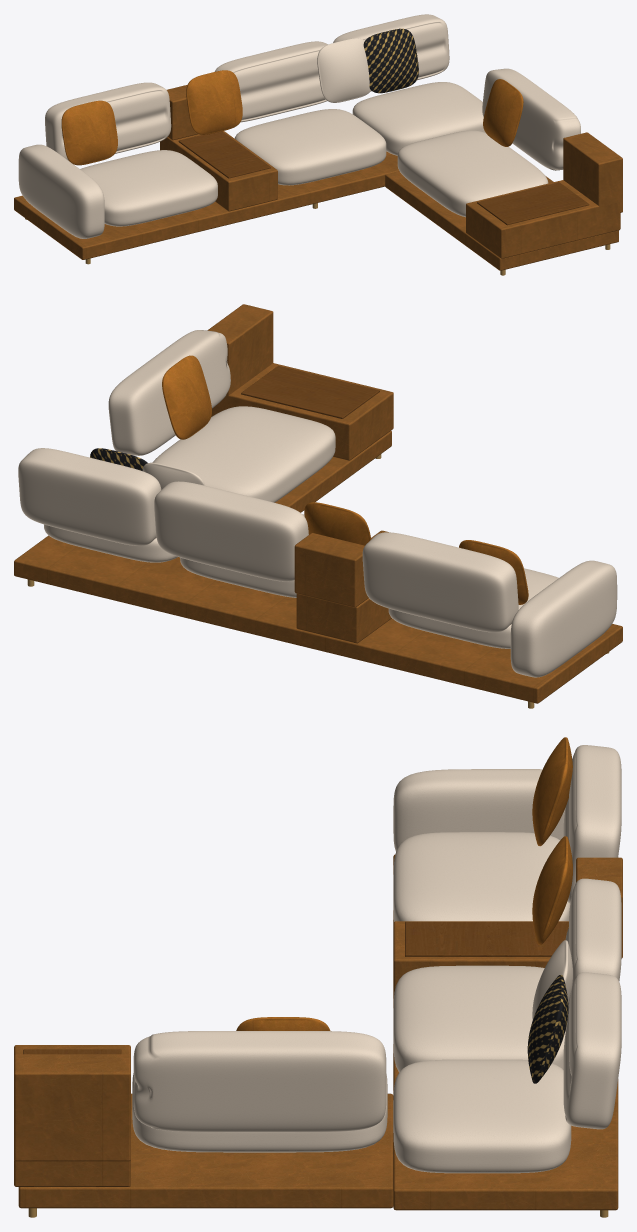
File: lorenzo-l-shape-sofa.glb
3 views of the same model, one above another, from view 1: azimuth 30°, elevation 25°; view 2: azimuth 150°, elevation 25°; view 3: azimuth 270°, elevation 25° (orthographic). The views are drawn at different scales.
Parts seen in each view (by area): view 1: base_back, seatR, seat2, seat0, seat3, backc2, armL, consoleR, backc0, backR, base_ret, consbackR (+10 smaller); view 2: base_back, backc0, seatR, backc2, backc3, armL, backR, consoleR, consback1, trayR, consbackR, console1 (+9 smaller); view 3: backR, seat3, base_ret, seat2, seat0, consbackR, base_back, armL, backc3, backc0, seatR, tray1 (+9 smaller).
Part boxes in pixels (box(x1,y1,x2,y2)): base_back: box(14, 151, 399, 259); seatR: box(397, 130, 548, 217); seat2: box(234, 109, 386, 185); seat0: box(80, 150, 217, 226); seat3: box(352, 82, 485, 155); backc2: box(214, 41, 327, 122); armL: box(18, 144, 104, 238); consoleR: box(466, 180, 620, 258); backc0: box(45, 82, 171, 160); backR: box(482, 68, 580, 170); base_ret: box(385, 171, 618, 270); consbackR: box(563, 132, 622, 212); base_back: box(14, 535, 622, 703); backc0: box(362, 532, 518, 632); seatR: box(153, 406, 335, 502); backc2: box(154, 481, 308, 581); backc3: box(18, 448, 161, 545); armL: box(510, 560, 617, 677); backR: box(108, 330, 230, 455); consoleR: box(211, 363, 393, 460); consback1: box(294, 533, 368, 607); trayR: box(241, 365, 379, 418); consbackR: box(207, 304, 273, 408); console1: box(296, 530, 391, 643); backR: box(133, 1031, 386, 1132); seat3: box(393, 1059, 571, 1173); base_ret: box(18, 1093, 393, 1208); seat2: box(393, 965, 565, 1072); seat0: box(393, 832, 570, 921); consbackR: box(14, 1054, 130, 1161); base_back: box(393, 854, 618, 1210); armL: box(393, 769, 565, 851); backc3: box(563, 972, 621, 1129); backc0: box(563, 745, 621, 903); seatR: box(132, 1073, 387, 1152); tray1: box(405, 921, 568, 956).
Size of the model in its own units: 3.4 by 0.8614 by 2.6.
6 materials, 5 textured.
